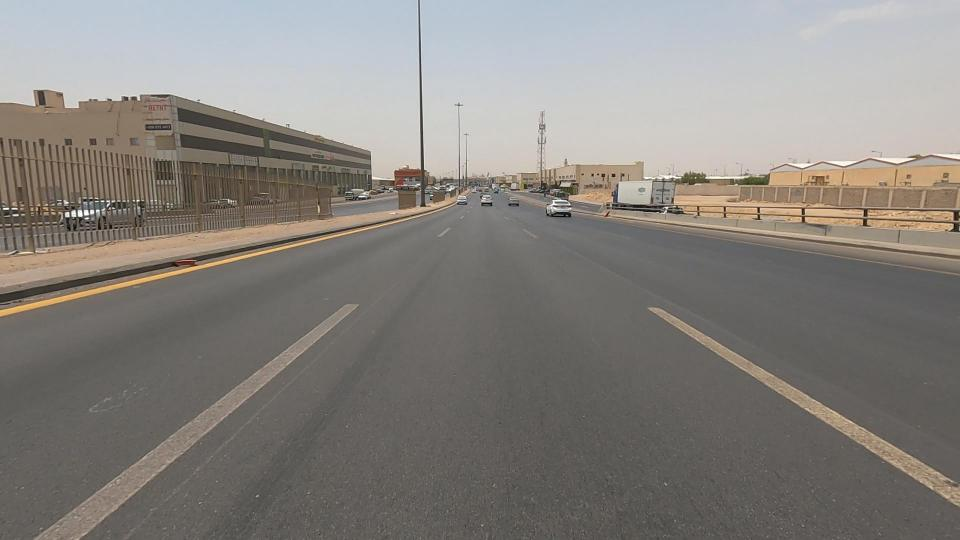GARBAGE: (155, 243, 212, 281), (585, 196, 626, 234), (375, 198, 411, 231)
